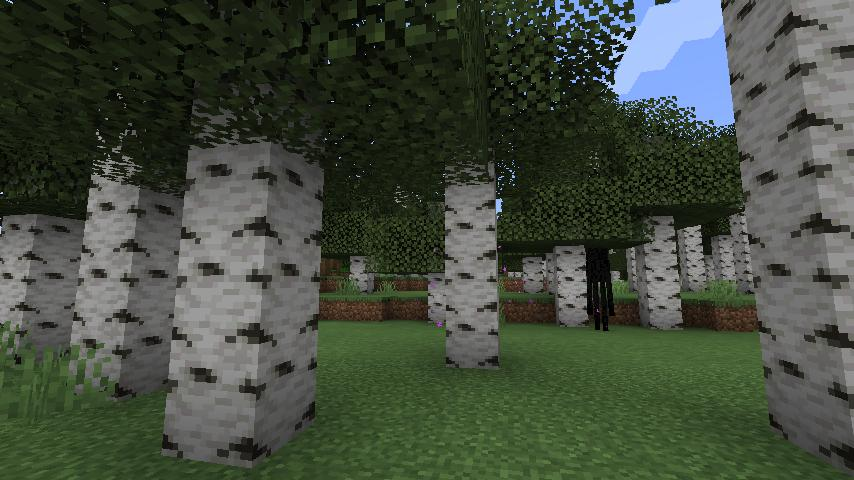enderman: (584, 247, 616, 336)
